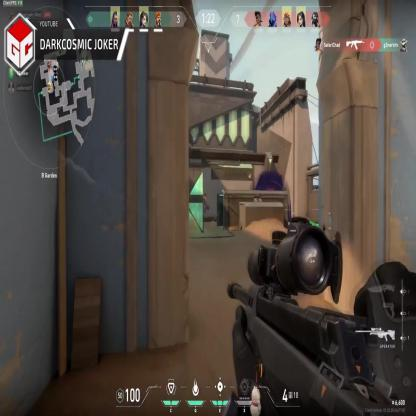enemy: (202, 192, 208, 212)
enemy_head: (204, 192, 207, 198)
